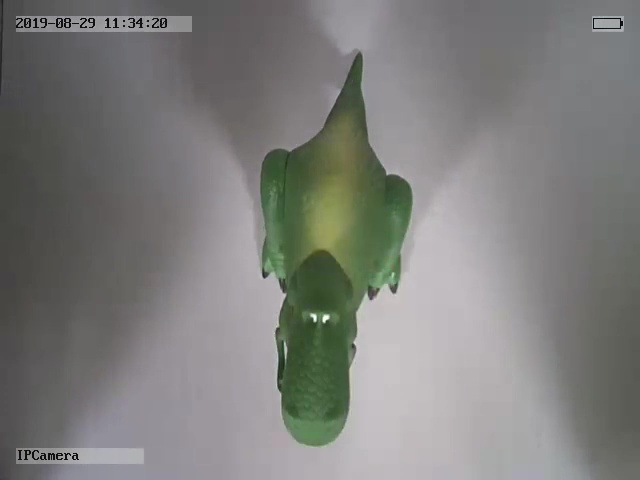rex: (255, 48, 415, 449)
